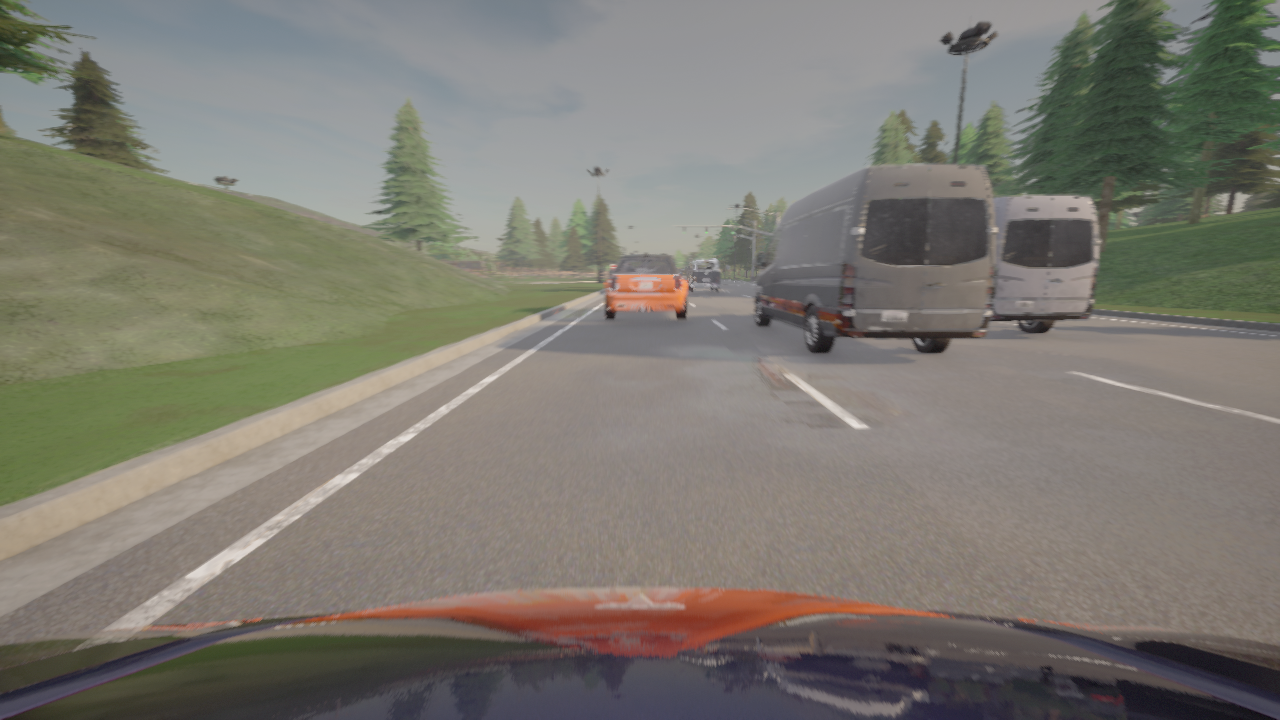cyclist: (0, 588, 1279, 719), (754, 164, 997, 353), (990, 195, 1100, 333), (604, 254, 687, 320), (685, 259, 720, 292)
